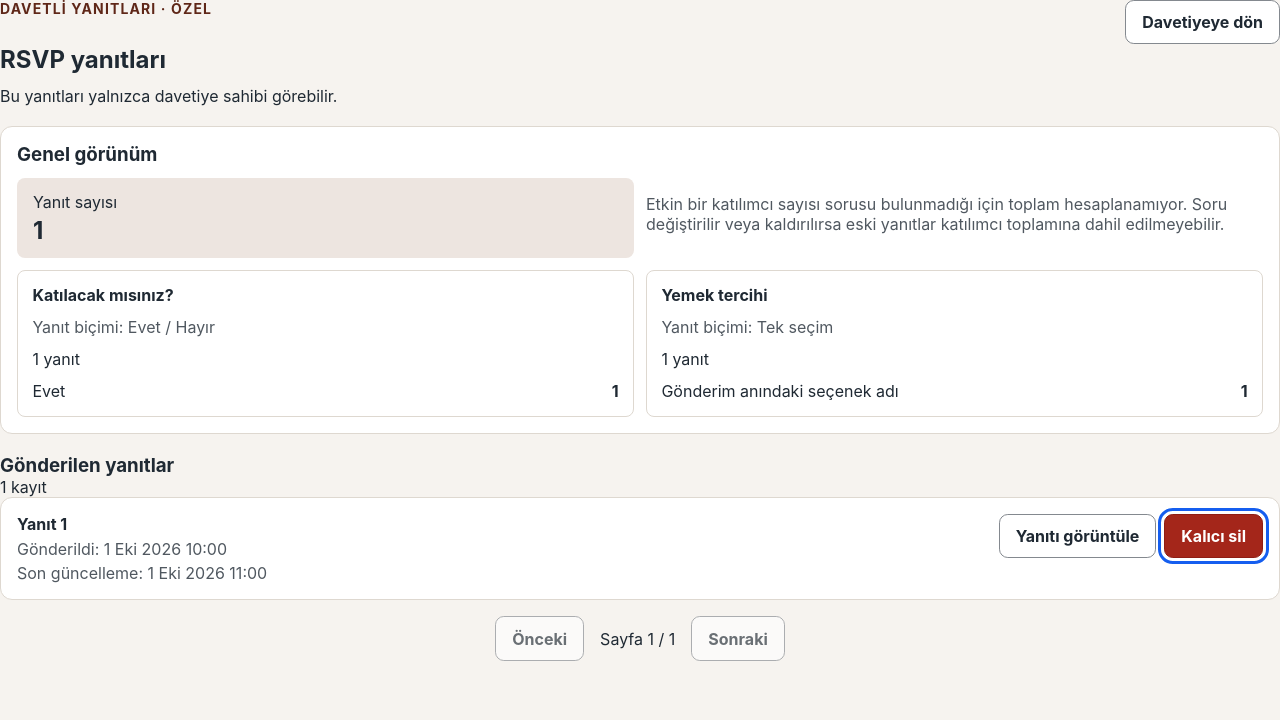
Test: RsvpResultsPage › asks for permanent deletion, supports Escape with focus restoration, and refreshes counts after delete
Step 1. Click the button "Kalıcı sil" → (1214, 536), box [1164,514,1263,558]
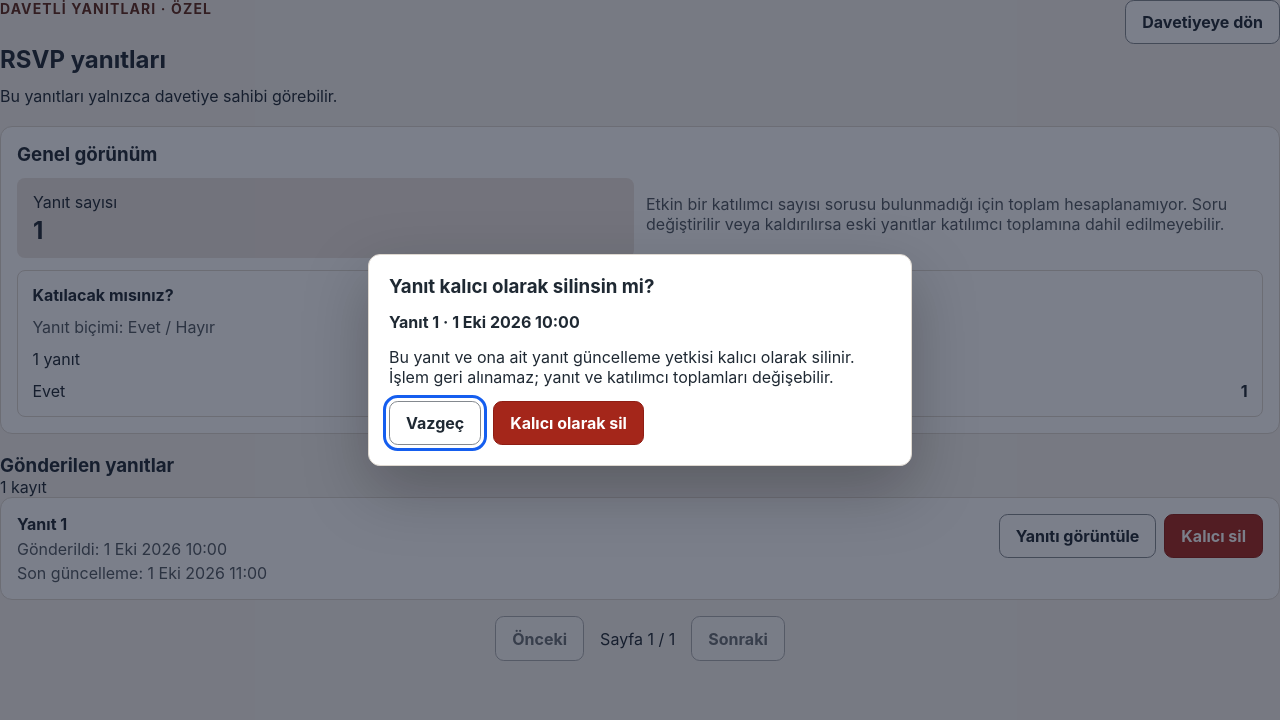
Now the dialog is shown
Now the text "ona ait yanıt güncelleme yetkisi kalıcı olarak silinir" is shown, box [389,346,855,386]
Step 2. Press Escape
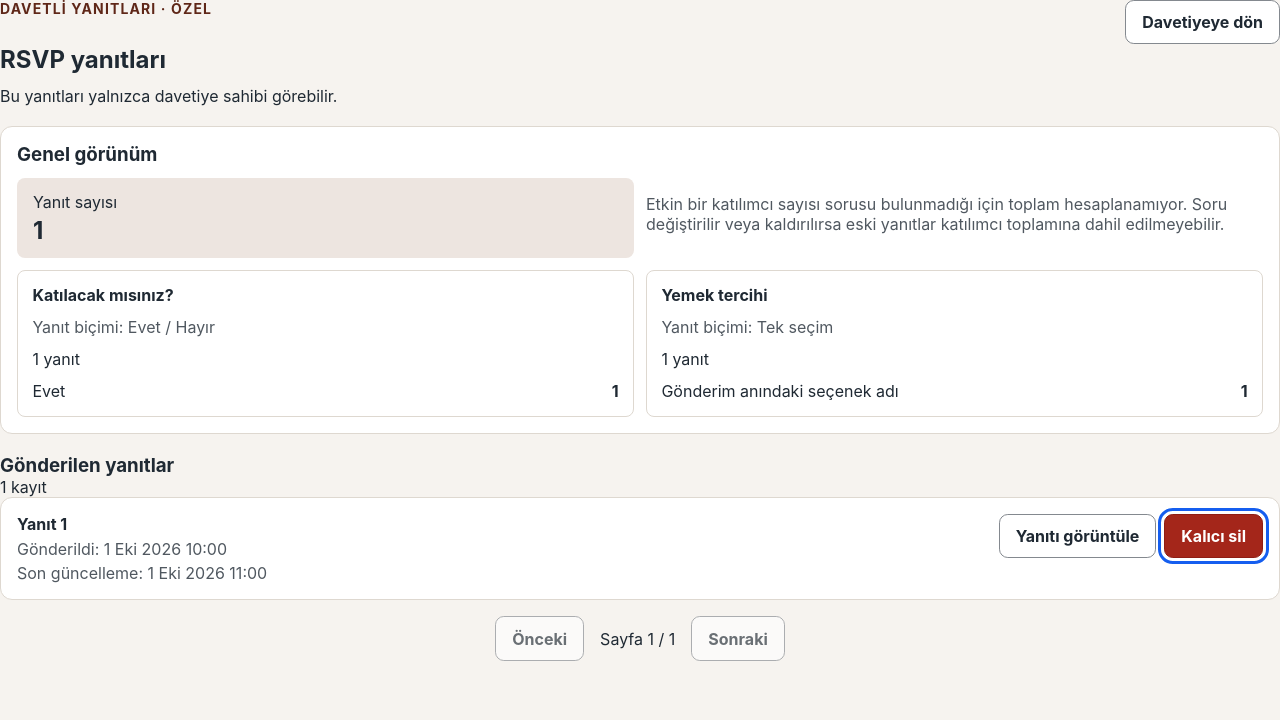
Now the dialog is gone
Step 3. Click the button "Kalıcı sil" → (1214, 536), box [1164,514,1263,558]
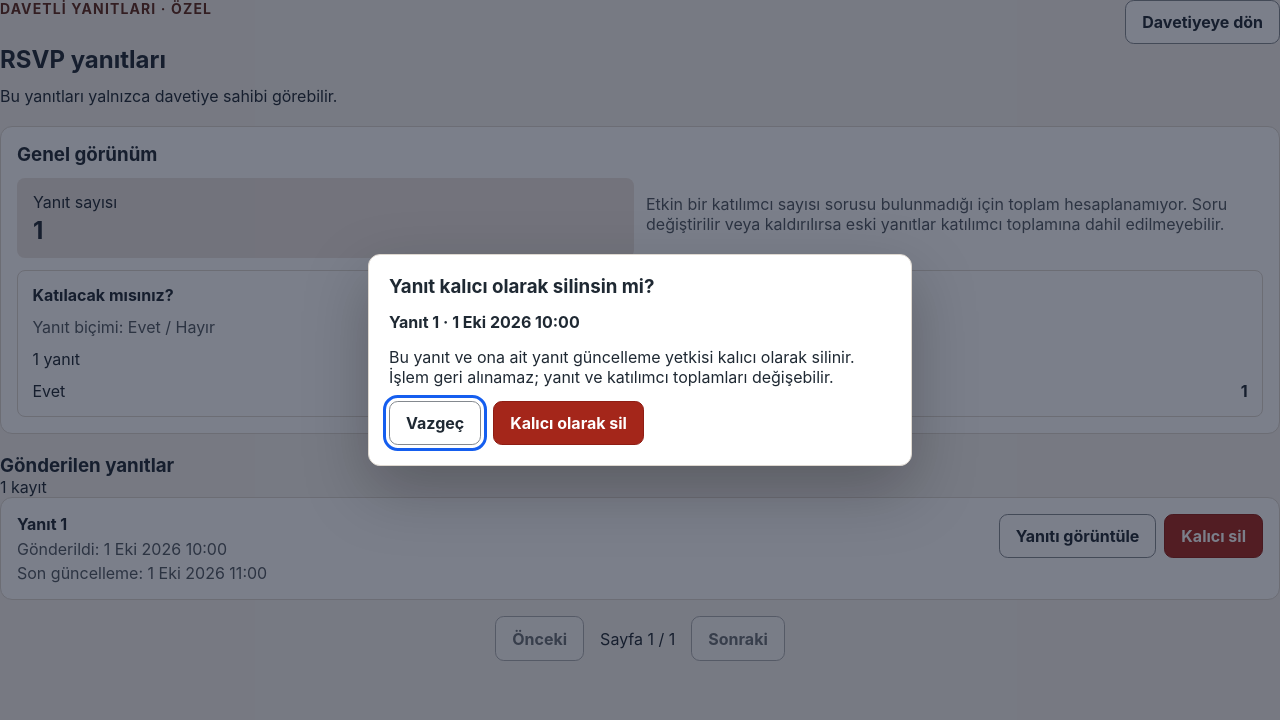
Step 4. Click the button "Kalıcı olarak sil" → (569, 423), box [493,401,644,445]
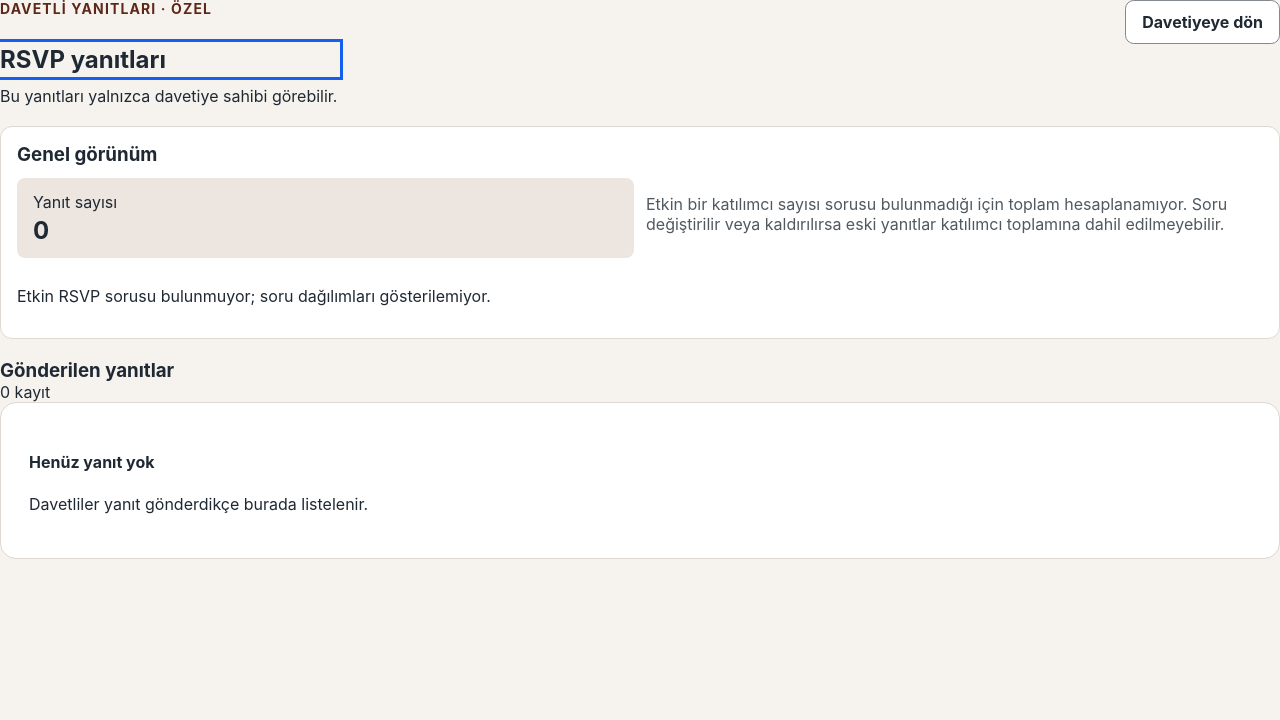
Now the heading "Henüz yanıt yok" is shown, box [29,452,154,472]
